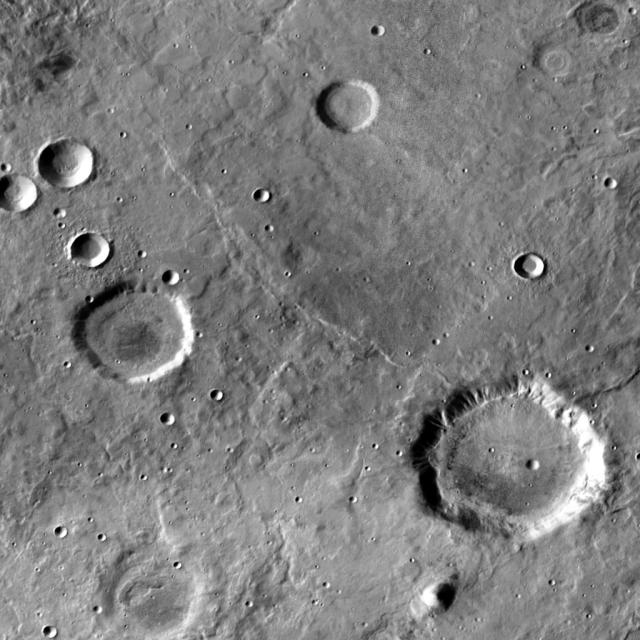crater: (420, 380, 611, 548), (82, 280, 203, 386), (102, 547, 213, 640), (324, 81, 388, 136), (46, 142, 101, 192), (0, 176, 44, 216), (584, 2, 627, 40), (540, 47, 581, 82), (78, 236, 118, 270), (289, 243, 325, 274), (522, 256, 552, 282), (170, 272, 187, 287), (262, 192, 277, 206), (168, 415, 184, 428), (50, 628, 66, 640), (379, 27, 393, 40), (533, 462, 548, 474), (218, 392, 231, 404), (62, 530, 75, 540), (612, 182, 624, 192), (63, 211, 74, 221), (9, 165, 19, 174), (101, 608, 110, 616), (594, 347, 602, 355), (92, 297, 100, 305), (440, 340, 448, 348), (145, 253, 153, 260), (275, 228, 283, 235), (106, 537, 114, 544), (181, 564, 188, 572), (422, 45, 430, 51), (296, 493, 303, 499), (246, 597, 253, 603), (170, 438, 178, 443)
